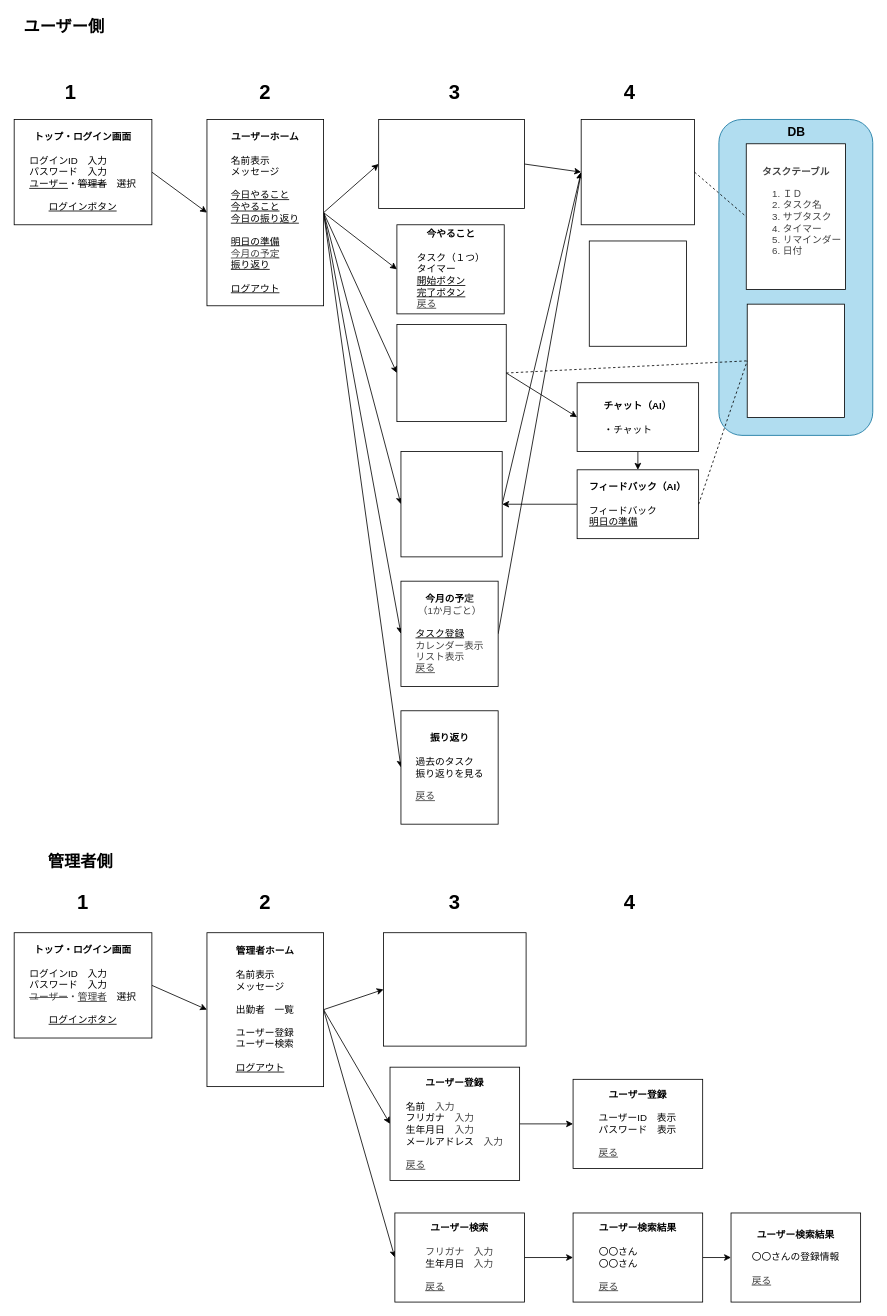
Image size: 887x1316. Some labels were removed from this diagram. The shapes that lost their labels are listed below. From the top down, each one's centre as x and y in pixels, then its label:
(451,164): 今日やること タスク登録 タスク一覧（編集・削除） 優先順位追加 戻る
(637,172): タスク登録 ・タスク名 ・サブタスク名 ・タイマー ・日付 戻る
(637,293): 予定登録 ・予定名 ・開始時間 ・終了時間 ・リマインダー ・日付 戻る
(451,373): 今日の振り返り 完了したタスク一覧 振り返り登録 1.達成度 2.ひとこと 戻る
(795,360): 振り返りテーブル ＩＤ 達成度 振り返り（ひとこと）
(451,504): 明日の準備 持ち物 タスク登録 タスク一覧 戻る
(454,989): 出勤者 一覧 〇〇さん 状態／進捗 〇〇さん 状態／進捗 戻る
